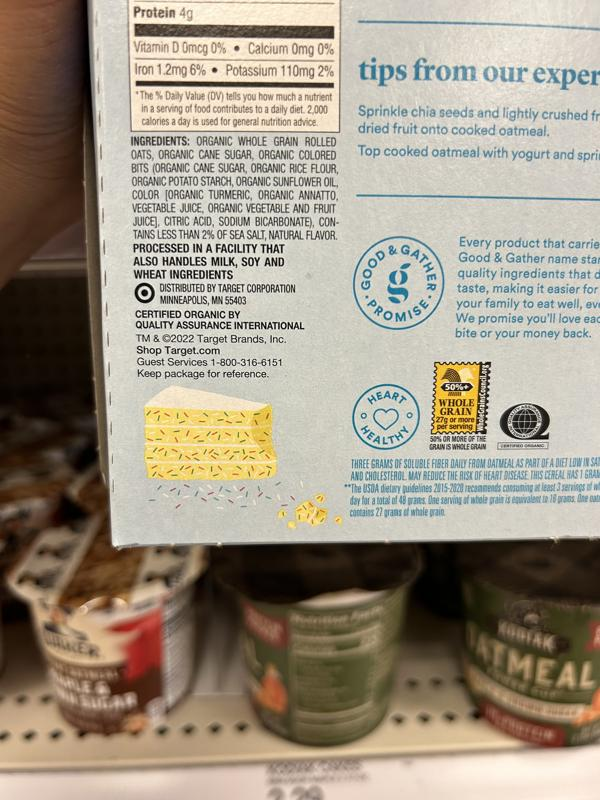ingredients: (129, 135, 340, 242)
